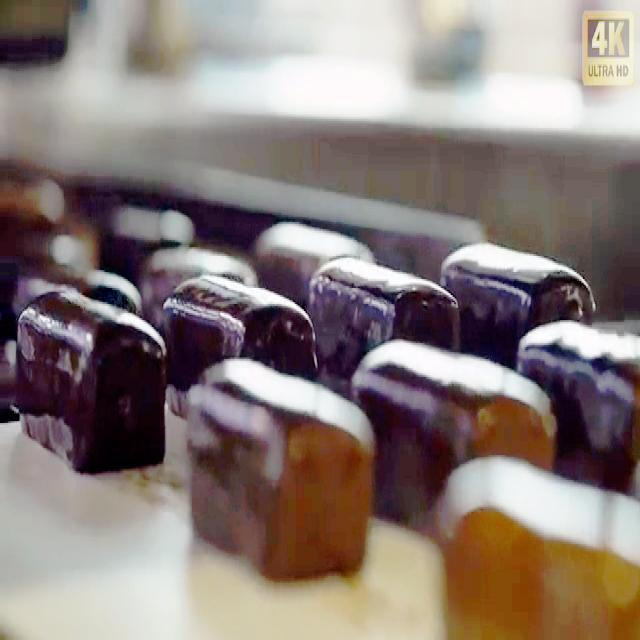Choco: (184, 352, 377, 581), (351, 332, 558, 532), (14, 281, 168, 473), (310, 250, 468, 401), (162, 268, 318, 381), (440, 233, 596, 345)
